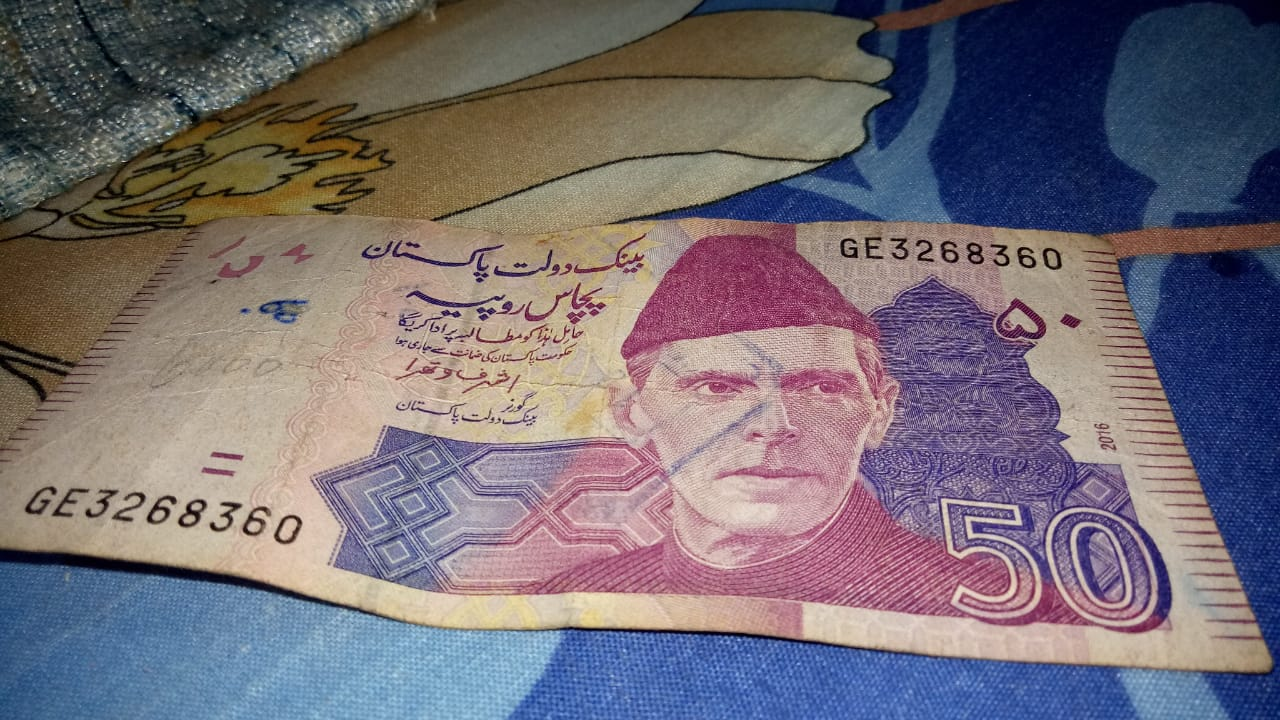50 rupee: (15, 188, 1274, 700)
